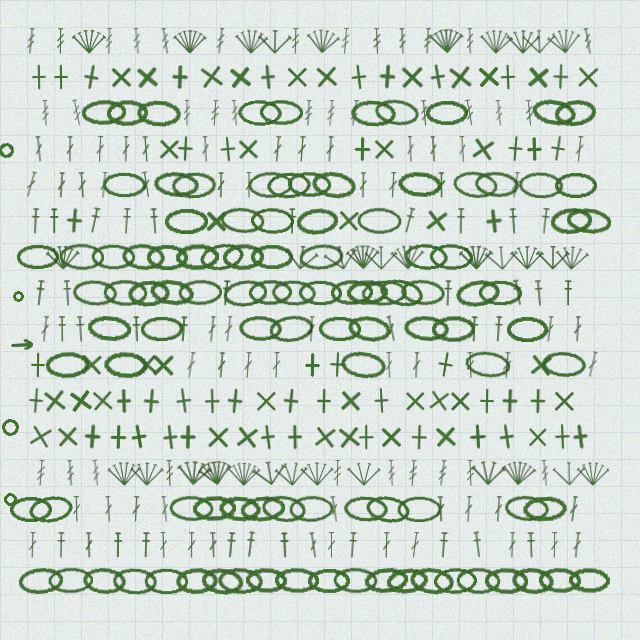chain: (377, 275, 426, 310), (198, 240, 246, 273), (530, 96, 577, 129), (339, 348, 387, 380), (454, 277, 501, 309), (346, 313, 393, 345), (27, 493, 74, 525), (364, 493, 411, 525), (373, 97, 420, 128), (310, 169, 357, 200), (452, 169, 499, 200), (148, 277, 195, 308), (464, 349, 511, 380), (260, 493, 307, 524), (408, 565, 455, 596), (268, 313, 314, 344), (565, 206, 612, 236), (298, 242, 345, 272), (239, 494, 286, 524), (553, 97, 598, 128), (222, 278, 268, 308), (219, 206, 266, 235), (17, 566, 64, 595), (295, 206, 340, 236), (200, 566, 245, 596), (385, 566, 430, 596), (153, 170, 199, 199), (403, 242, 449, 271), (86, 314, 132, 343), (403, 314, 449, 343), (541, 350, 587, 379), (363, 566, 409, 595), (397, 170, 442, 199), (474, 170, 519, 199), (549, 206, 594, 235), (121, 242, 166, 271), (400, 278, 445, 307), (504, 494, 549, 523), (82, 566, 127, 595), (350, 99, 396, 127), (171, 171, 217, 199), (518, 171, 564, 199), (72, 279, 118, 307), (361, 279, 407, 307), (511, 566, 555, 595), (136, 99, 181, 127), (266, 171, 311, 199), (271, 279, 316, 307), (343, 495, 388, 523), (522, 495, 567, 523), (112, 567, 157, 595), (237, 99, 283, 126), (217, 567, 263, 594), (127, 279, 171, 307), (218, 495, 262, 523), (81, 99, 126, 126), (248, 171, 293, 198), (287, 171, 332, 198), (250, 207, 295, 234), (357, 207, 402, 234), (59, 243, 104, 270), (103, 279, 148, 306), (248, 279, 293, 306), (238, 315, 283, 342), (103, 351, 148, 378), (169, 495, 214, 522), (289, 495, 334, 522), (48, 567, 93, 594), (274, 567, 319, 594), (333, 567, 378, 594), (433, 567, 478, 594), (456, 567, 501, 594), (259, 99, 303, 126), (175, 243, 219, 270), (429, 243, 473, 270), (178, 279, 222, 306), (330, 279, 374, 306), (431, 315, 475, 342), (45, 351, 89, 378), (192, 495, 236, 522), (175, 567, 219, 594), (484, 567, 528, 594), (538, 567, 582, 594), (397, 496, 442, 522), (106, 99, 149, 126), (222, 243, 265, 270), (346, 279, 389, 306), (245, 567, 288, 594), (568, 567, 611, 594), (425, 100, 469, 126), (102, 172, 146, 198), (554, 172, 598, 198), (164, 208, 208, 234), (16, 244, 60, 270), (91, 244, 135, 270), (250, 244, 294, 270), (298, 280, 342, 306), (478, 280, 522, 306), (140, 316, 184, 342), (318, 316, 362, 342), (9, 496, 53, 522), (144, 568, 188, 594), (307, 568, 351, 594), (146, 244, 189, 270), (506, 316, 549, 342)
double: (24, 171, 38, 198), (140, 171, 153, 198), (385, 315, 398, 342), (586, 351, 599, 378), (185, 352, 197, 378), (409, 532, 421, 558), (272, 136, 283, 162), (574, 136, 585, 162), (510, 172, 521, 198), (223, 316, 234, 342), (544, 316, 555, 342), (329, 496, 340, 522), (568, 496, 579, 522), (308, 532, 319, 558), (34, 136, 44, 162), (95, 136, 105, 162), (141, 136, 151, 162), (297, 136, 307, 162), (325, 136, 335, 162), (77, 172, 87, 198), (99, 172, 109, 198), (388, 172, 398, 198), (40, 316, 50, 342), (207, 316, 217, 342), (243, 352, 253, 378), (502, 352, 512, 378), (131, 496, 141, 522), (160, 496, 170, 522), (208, 532, 218, 558), (572, 532, 582, 558), (201, 136, 210, 162), (406, 136, 415, 162), (429, 136, 438, 162), (458, 136, 467, 162), (57, 172, 66, 198), (437, 172, 446, 198), (307, 316, 316, 342), (573, 316, 582, 342), (217, 352, 226, 378), (272, 352, 281, 378), (412, 352, 421, 378), (466, 352, 475, 378), (72, 496, 81, 522), (104, 496, 113, 522), (436, 496, 445, 522), (464, 496, 473, 522), (494, 496, 503, 522), (28, 532, 37, 558), (159, 532, 168, 558), (187, 532, 196, 558), (327, 532, 336, 558), (382, 532, 391, 558), (550, 532, 559, 558), (66, 136, 74, 162), (122, 136, 130, 162), (217, 172, 225, 198), (245, 172, 253, 198), (359, 172, 367, 198), (385, 352, 393, 378), (85, 532, 93, 558), (508, 532, 516, 558)
fan: (322, 241, 360, 273), (197, 457, 234, 488), (251, 457, 288, 488), (283, 242, 320, 272), (305, 26, 341, 55), (546, 26, 582, 55), (176, 458, 212, 487), (501, 458, 537, 487), (554, 243, 590, 271), (234, 27, 269, 55), (479, 27, 514, 55), (484, 243, 519, 271), (274, 459, 309, 487), (429, 27, 464, 54), (390, 243, 425, 270), (471, 459, 506, 486), (522, 27, 556, 54), (346, 243, 380, 270), (552, 459, 586, 486), (72, 28, 106, 54), (173, 28, 207, 54), (258, 28, 292, 54), (506, 28, 540, 54), (46, 244, 80, 270), (364, 244, 398, 270), (459, 244, 493, 270), (510, 244, 544, 270), (536, 244, 570, 270), (107, 460, 141, 486), (130, 460, 164, 486), (227, 460, 261, 486), (300, 460, 334, 486), (347, 460, 381, 486), (576, 460, 610, 486)
half_double: (401, 207, 417, 234), (87, 207, 102, 234), (511, 279, 525, 306), (244, 531, 257, 558), (471, 531, 484, 558), (539, 208, 551, 234), (34, 280, 46, 306), (220, 280, 232, 306), (533, 280, 545, 306), (225, 532, 237, 558), (30, 208, 41, 234), (121, 208, 132, 234), (149, 208, 160, 234), (508, 208, 519, 234), (62, 280, 73, 306), (75, 316, 86, 342), (131, 316, 142, 342), (178, 316, 189, 342), (493, 316, 504, 342), (279, 532, 290, 558), (347, 532, 358, 558), (438, 532, 449, 558), (49, 208, 59, 234), (287, 208, 297, 234), (456, 208, 466, 234), (443, 280, 453, 306), (563, 280, 573, 306), (57, 316, 67, 342), (469, 316, 479, 342), (56, 532, 66, 558), (113, 532, 123, 558), (141, 532, 151, 558), (526, 532, 536, 558)
noise: (0, 416, 21, 438), (0, 140, 16, 160), (10, 339, 35, 350), (3, 492, 18, 507), (11, 289, 25, 303)
single: (25, 421, 56, 452), (76, 62, 106, 92), (468, 134, 498, 164), (197, 62, 226, 91), (423, 62, 452, 91), (422, 206, 451, 235), (431, 350, 460, 379), (40, 386, 69, 415), (66, 386, 95, 415), (169, 386, 198, 415), (124, 422, 153, 451), (492, 422, 521, 451), (566, 422, 595, 451), (544, 134, 572, 163), (425, 386, 453, 415), (133, 63, 161, 91), (226, 63, 254, 91), (254, 63, 282, 91), (345, 63, 373, 91), (446, 63, 474, 91), (524, 63, 552, 91), (214, 135, 242, 163), (480, 207, 508, 235), (527, 351, 555, 379), (137, 387, 165, 415), (221, 387, 249, 415), (277, 387, 305, 415), (156, 423, 184, 451), (233, 423, 261, 451), (254, 423, 282, 451), (311, 423, 339, 451), (335, 423, 363, 451), (313, 63, 340, 90), (374, 63, 401, 90), (475, 63, 502, 90), (547, 63, 574, 90), (172, 135, 199, 162), (502, 135, 529, 162), (61, 207, 88, 234), (335, 207, 362, 234), (78, 351, 105, 378), (133, 351, 160, 378), (324, 351, 351, 378), (89, 387, 116, 414), (337, 387, 364, 414), (368, 387, 395, 414), (54, 423, 81, 450), (79, 423, 106, 450), (432, 423, 459, 450), (464, 423, 491, 450), (549, 423, 576, 450), (23, 387, 49, 414), (26, 64, 52, 90), (48, 64, 74, 90), (108, 64, 134, 90), (167, 64, 193, 90), (284, 64, 310, 90), (399, 64, 425, 90), (495, 64, 521, 90), (575, 64, 601, 90), (156, 136, 182, 162), (235, 136, 261, 162), (349, 136, 375, 162), (371, 136, 397, 162), (521, 136, 547, 162), (203, 208, 229, 234), (25, 352, 51, 378), (150, 352, 176, 378), (299, 352, 325, 378), (111, 388, 137, 414), (199, 388, 225, 414), (253, 388, 279, 414), (311, 388, 337, 414), (402, 388, 428, 414), (447, 388, 473, 414), (474, 388, 500, 414), (497, 388, 523, 414), (525, 388, 551, 414), (551, 388, 577, 414), (105, 424, 131, 450), (175, 424, 201, 450), (205, 424, 231, 450), (282, 424, 308, 450), (353, 424, 379, 450), (378, 424, 404, 450), (406, 424, 432, 450), (525, 424, 550, 450)
treble: (70, 99, 84, 126), (463, 99, 476, 126), (582, 28, 594, 54), (160, 28, 171, 54), (215, 28, 226, 54), (340, 28, 351, 54), (349, 100, 360, 126), (419, 100, 430, 126), (524, 100, 535, 126), (437, 460, 448, 486), (26, 28, 36, 54), (132, 28, 142, 54), (372, 28, 382, 54), (210, 100, 220, 126), (230, 100, 240, 126), (326, 100, 336, 126), (494, 100, 504, 126), (36, 460, 46, 486), (91, 460, 101, 486), (408, 460, 418, 486), (540, 460, 550, 486), (56, 28, 65, 54), (291, 28, 300, 54), (398, 28, 407, 54), (423, 28, 432, 54), (41, 100, 50, 126), (304, 100, 313, 126), (66, 460, 75, 486), (165, 460, 174, 486), (333, 460, 342, 486), (387, 460, 396, 486), (466, 460, 475, 486), (105, 28, 113, 54), (466, 28, 474, 54), (183, 100, 191, 126)
